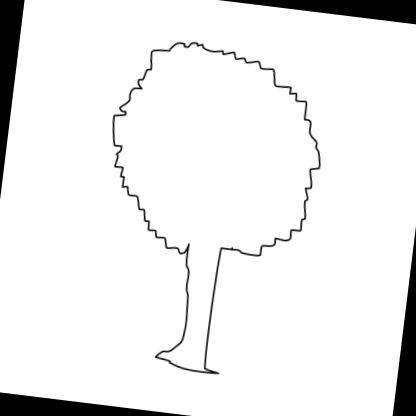crown_dizzy: (97, 33, 334, 268)
trunk_straight: (168, 257, 230, 354)
